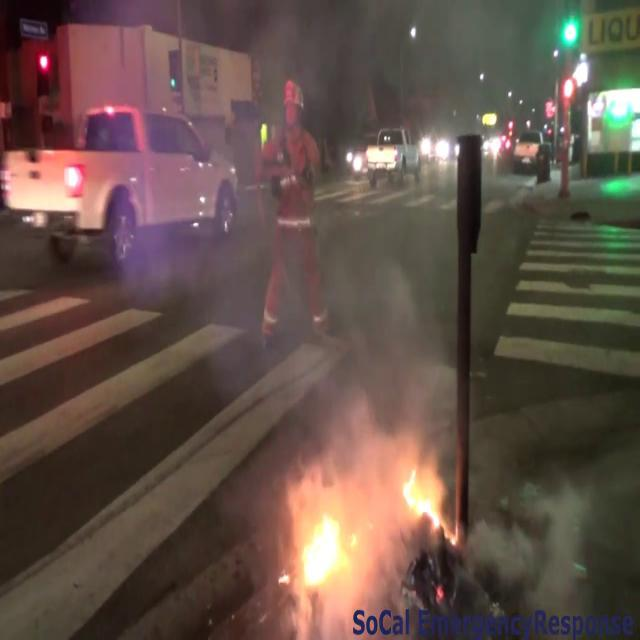Fire: (286, 498, 360, 600), (395, 454, 453, 540)
Smoke: (269, 180, 533, 520)
